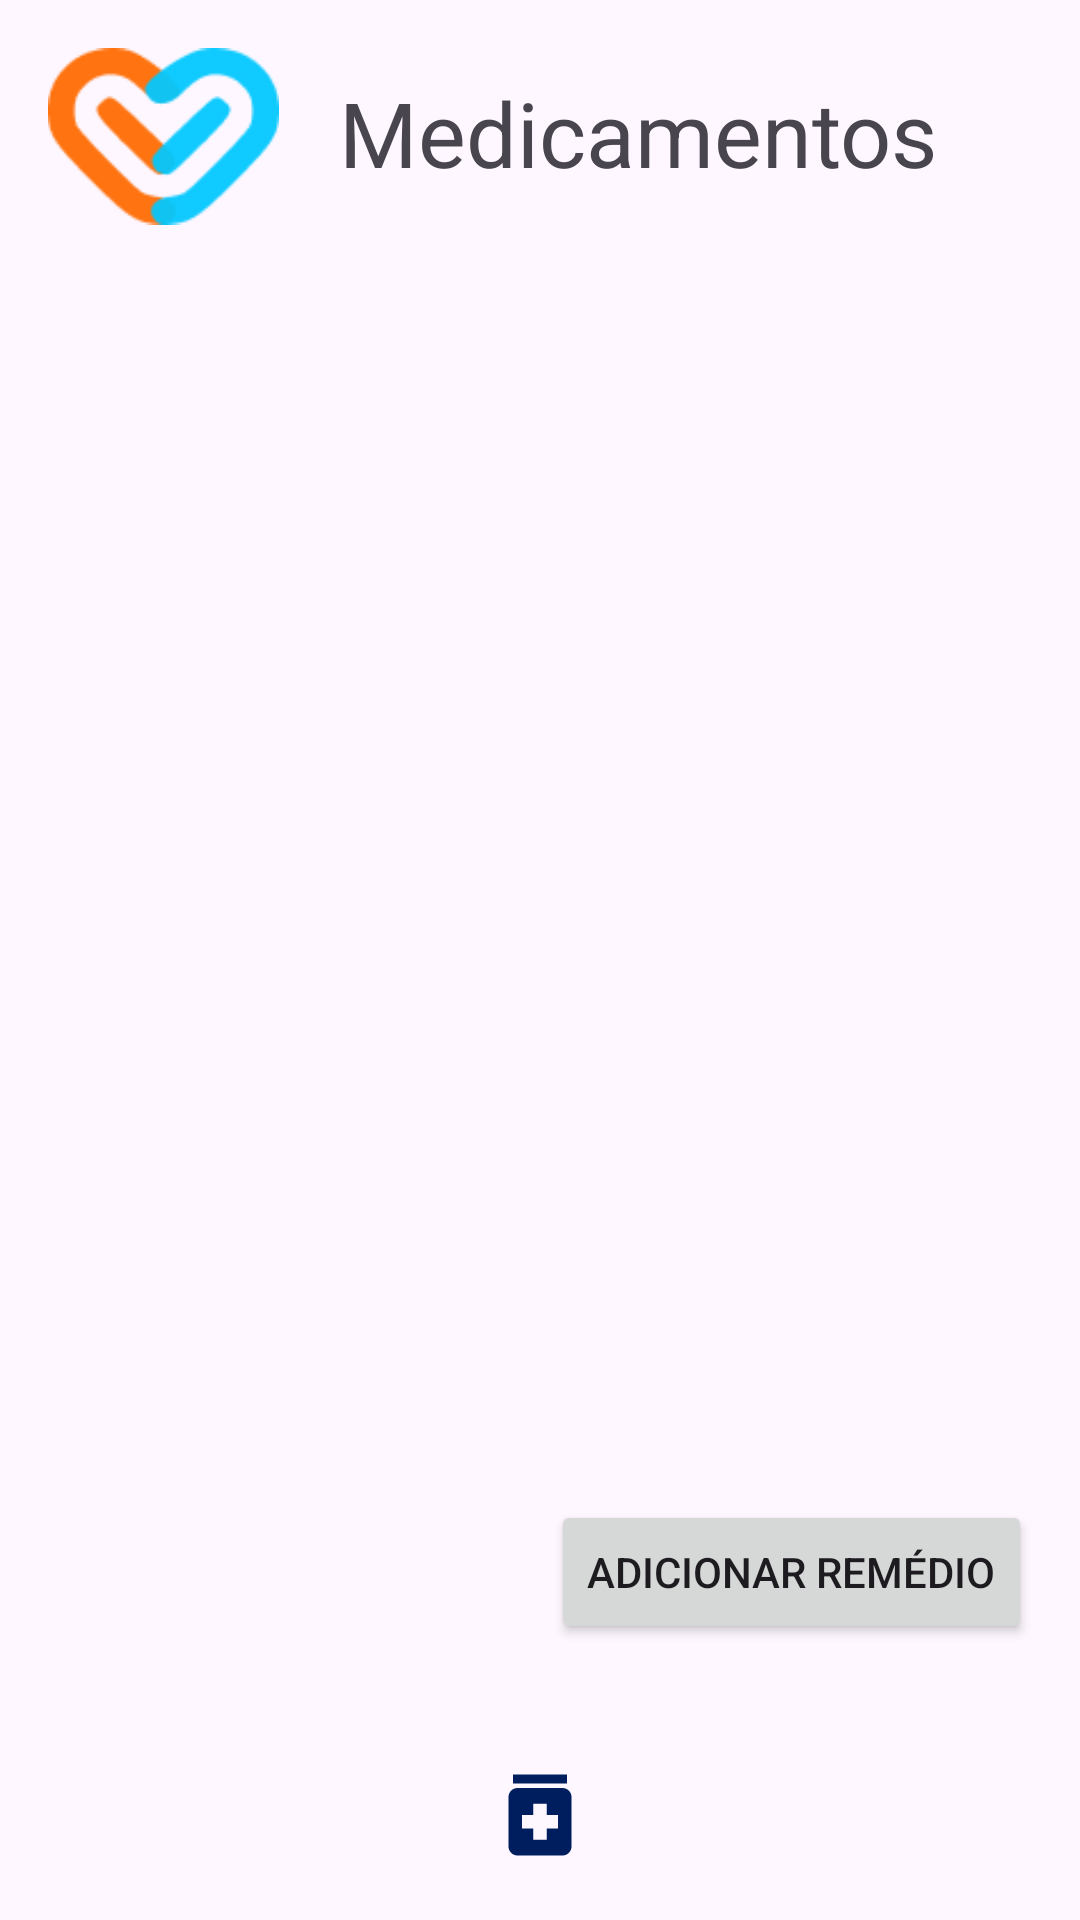

Screen size 1080*1920. Icon name, then its center in pixels as [x,y]:
medication: [540,1815]
